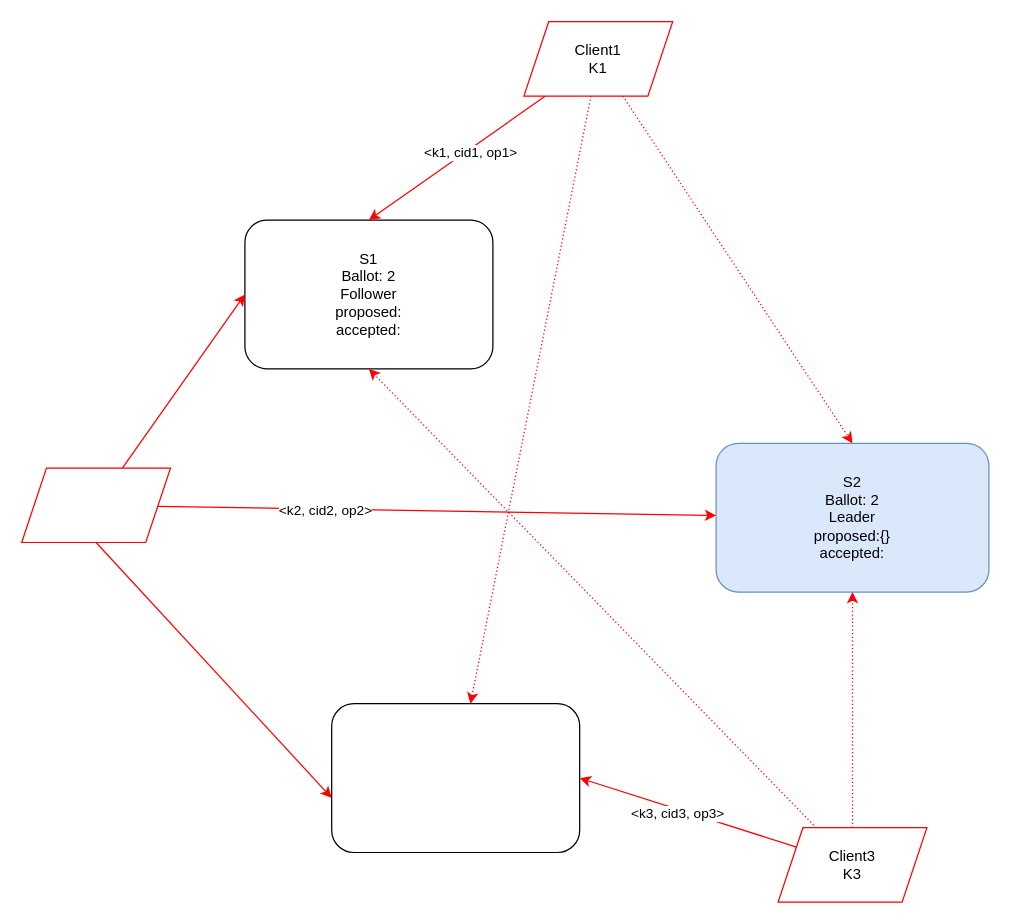
Image size: 1011x924. Some labels were removed from this diagram. The shapes that lost their labels are listed below. From the top down, each one's box as (x1, y1, x2, y2) in pixels, then its label:
(20, 467, 170, 542): Client2 K2
(330, 702, 580, 852): S3 Ballot: 2 Follower proposed: accepted:
